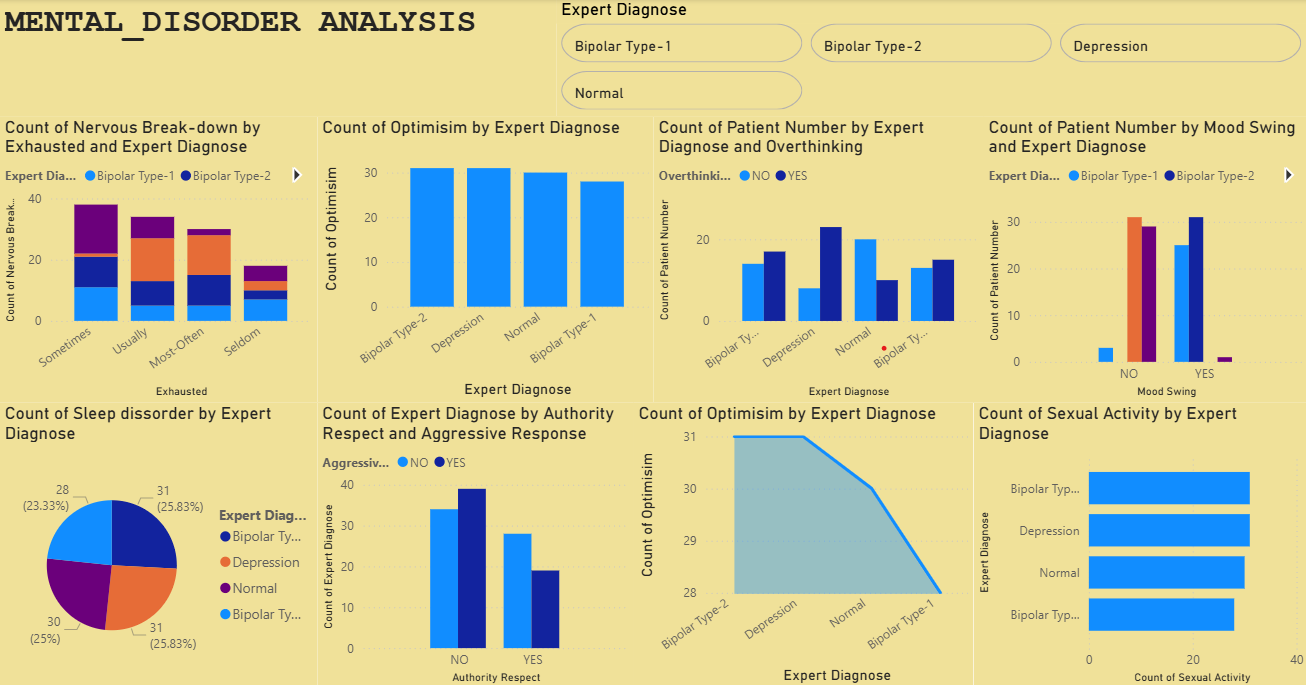

What the dashboard file says about the page in this screenshot:
{"tool":"powerbi","page":{"name":"Page 1","canvas":[1280,720],"ordinal":0},"visuals":[{"type":"columnChart","fields":{"Y":["CountNonNull(mental_disorders_dataset.Nervous Break-down)"],"Series":["mental_disorders_dataset.Expert Diagnose"],"Category":["mental_disorders_dataset.Exhausted"]},"box":[0,115.3,310.1,279.9],"z":0},{"type":"clusteredColumnChart","fields":{"Category":["mental_disorders_dataset.Expert Diagnose"],"Y":["CountNonNull(mental_disorders_dataset.Optimisim)"]},"box":[310.6,114.9,328.9,280],"z":1},{"type":"lineClusteredColumnComboChart","fields":{"Category":["mental_disorders_dataset.Expert Diagnose"],"Y":["CountNonNull(mental_disorders_dataset.Patient Number)"],"Series":["mental_disorders_dataset.Overthinking"]},"box":[639.5,114.9,322.8,280],"z":2},{"type":"lineClusteredColumnComboChart","fields":{"Category":["mental_disorders_dataset.Mood Swing"],"Y":["CountNonNull(mental_disorders_dataset.Patient Number)"],"Series":["mental_disorders_dataset.Expert Diagnose"]},"box":[962.4,114.9,317.9,280],"z":3},{"type":"pieChart","fields":{"Category":["mental_disorders_dataset.Expert Diagnose"],"Y":["CountNonNull(mental_disorders_dataset.Sleep dissorder)"]},"box":[0,395.2,310.1,279.9],"z":4},{"type":"lineClusteredColumnComboChart","fields":{"Category":["mental_disorders_dataset.Authority Respect"],"Y":["CountNonNull(mental_disorders_dataset.Expert Diagnose)"],"Series":["mental_disorders_dataset.Aggressive Response"]},"box":[310.6,395,309.4,280],"z":5},{"type":"areaChart","fields":{"Category":["mental_disorders_dataset.Expert Diagnose"],"Y":["CountNonNull(mental_disorders_dataset.Optimisim)"]},"box":[620.2,395.2,332.1,279.9],"z":6},{"type":"clusteredBarChart","fields":{"Category":["mental_disorders_dataset.Expert Diagnose"],"Y":["CountNonNull(mental_disorders_dataset.Sexual Activity)"]},"box":[952.3,395.2,328,279.9],"z":7},{"type":"advancedSlicerVisual","fields":{"Values":["mental_disorders_dataset.Expert Diagnose"]},"box":[544.2,0,736.1,114.9],"z":8},{"type":"textbox","box":[0,0,544.2,114.9],"z":9}]}

Visuals, with their boxes on the page's 1280x720 design canvas (x1, y1, x2, y2). These are canvas units, not pixel positions in the 1307x685 screenshot, which may show the page scaled, cropped or inside an application window:
columnChart - CountNonNull(mental_disorders_dataset.Nervous Break-down) x mental_disorders_dataset.Expert Diagnose: bbox(0, 115, 310, 395)
clusteredColumnChart - mental_disorders_dataset.Expert Diagnose x CountNonNull(mental_disorders_dataset.Optimisim): bbox(311, 115, 640, 395)
lineClusteredColumnComboChart - mental_disorders_dataset.Expert Diagnose x CountNonNull(mental_disorders_dataset.Patient Number): bbox(640, 115, 962, 395)
lineClusteredColumnComboChart - mental_disorders_dataset.Mood Swing x CountNonNull(mental_disorders_dataset.Patient Number): bbox(962, 115, 1280, 395)
pieChart - mental_disorders_dataset.Expert Diagnose x CountNonNull(mental_disorders_dataset.Sleep dissorder): bbox(0, 395, 310, 675)
lineClusteredColumnComboChart - mental_disorders_dataset.Authority Respect x CountNonNull(mental_disorders_dataset.Expert Diagnose): bbox(311, 395, 620, 675)
areaChart - mental_disorders_dataset.Expert Diagnose x CountNonNull(mental_disorders_dataset.Optimisim): bbox(620, 395, 952, 675)
clusteredBarChart - mental_disorders_dataset.Expert Diagnose x CountNonNull(mental_disorders_dataset.Sexual Activity): bbox(952, 395, 1280, 675)
advancedSlicerVisual - mental_disorders_dataset.Expert Diagnose: bbox(544, 0, 1280, 115)
textbox: bbox(0, 0, 544, 115)
